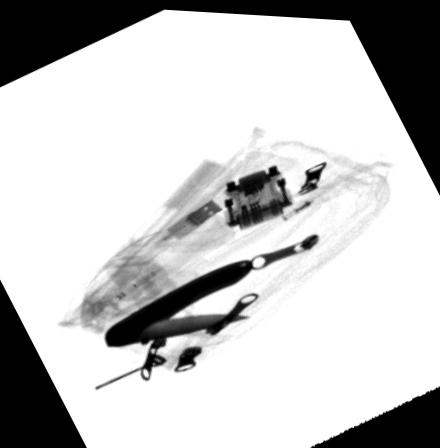Knife: (102, 255, 256, 347)
